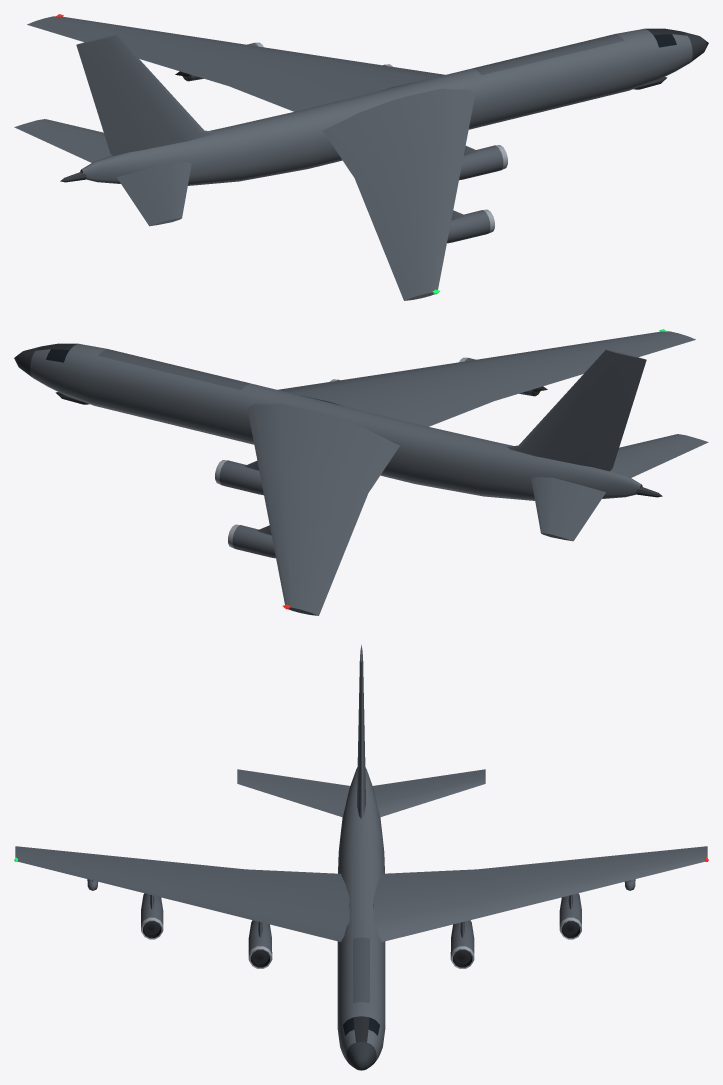
File: bomber.glb
3 views of the same model, one above another, from view 1: azimuth 30°, elevation 25°; view 2: azimuth 150°, elevation 25°; view 3: azimuth 270°, elevation 25° (orthographic). The views are drawn at different scales.
Visible parts, largest first — view 1: Body; view 2: Body; view 3: Body.
Part boxes in pixels (box(x1,y1,x2,y2)): Body: box(14, 16, 708, 300); Body: box(14, 331, 708, 615); Body: box(15, 644, 707, 1070).
Bounding box in the file's own units: 47.6 × 12.42 × 48.12.
Materials: 2 (2 with a texture image).
